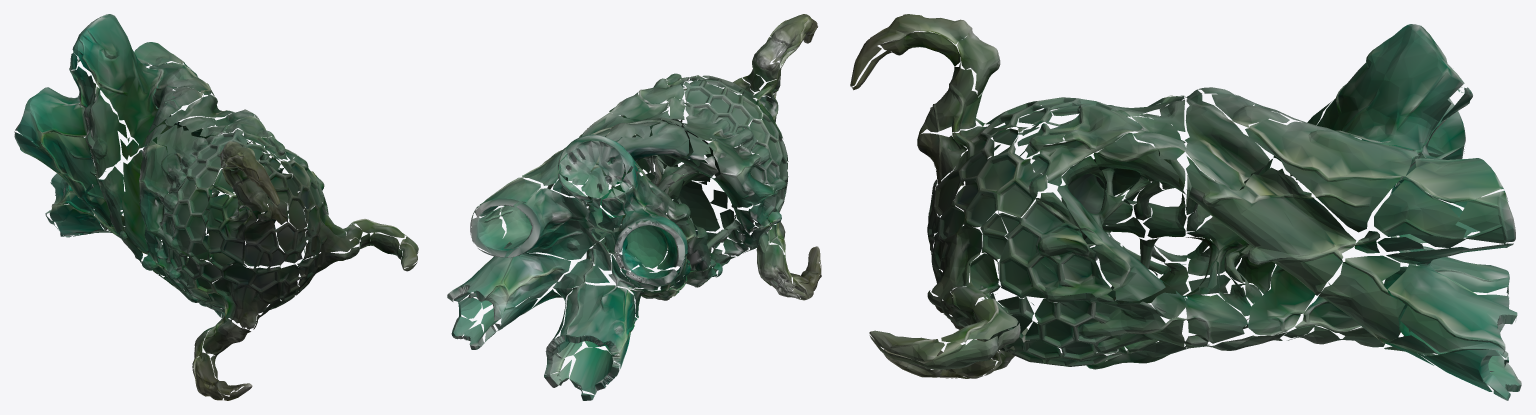
File: H1-web.glb
3 views of the same model, side by side, from view 1: azimuth 30°, elevation 25°; view 2: azimuth 150°, elevation 25°; view 3: azimuth 270°, elevation 25° (orthographic). The views are drawn at different scales.
Parts seen in each view (by area): view 1: geometry_0; view 2: geometry_0; view 3: geometry_0.
Boxes of the visible parts, x1,y1,x2,y2 form: geometry_0: (14,14,418,400); geometry_0: (447,14,821,400); geometry_0: (850,14,1521,400).
Size of the model in its own units: 0.1278 by 0.131 by 0.2078.
